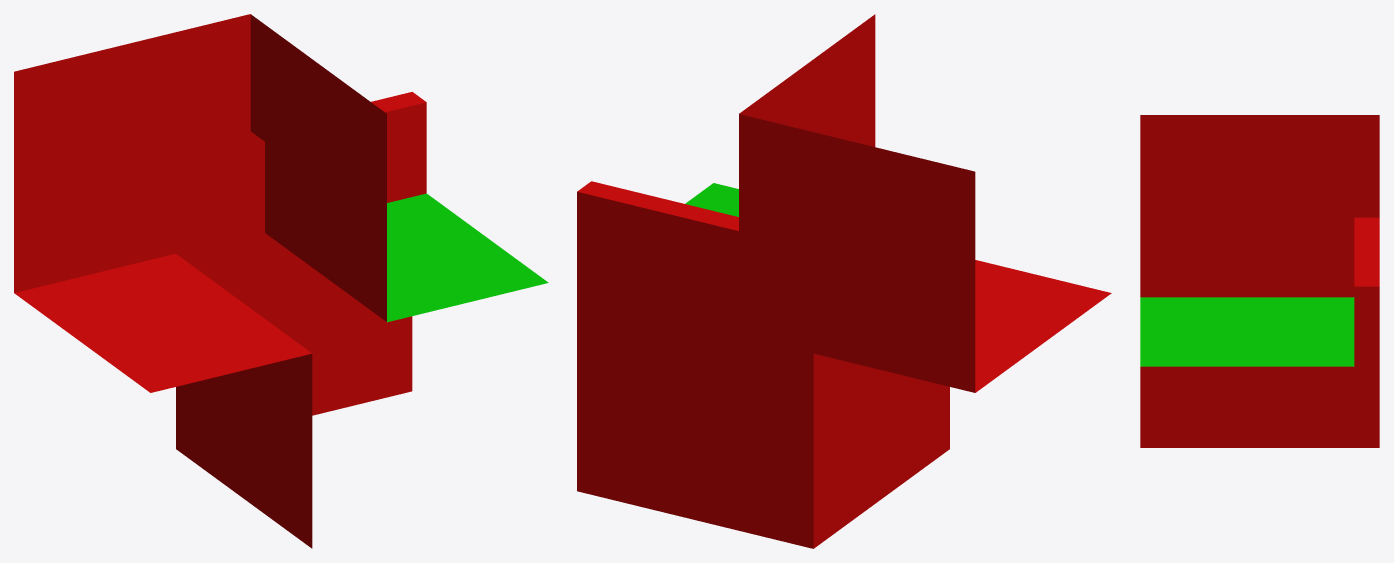
3 views of the same model, side by side, from view 1: azimuth 30°, elevation 25°; view 2: azimuth 150°, elevation 25°; view 3: azimuth 270°, elevation 25° (orthographic). The views are drawn at different scales.
Visible parts, largest first — view 1: None_E_W_E_E_E_E_E_A_None; view 2: None_E_W_E_E_E_E_E_A_None; view 3: None_E_W_E_E_E_E_E_A_None.
Boxes of the visible parts, x1,y1,x2,y2 form: None_E_W_E_E_E_E_E_A_None: [14, 14, 548, 548]; None_E_W_E_E_E_E_E_A_None: [577, 14, 1111, 548]; None_E_W_E_E_E_E_E_A_None: [1140, 115, 1379, 447].
Bounding box in the file's own units: 100 × 100 × 59.38.
